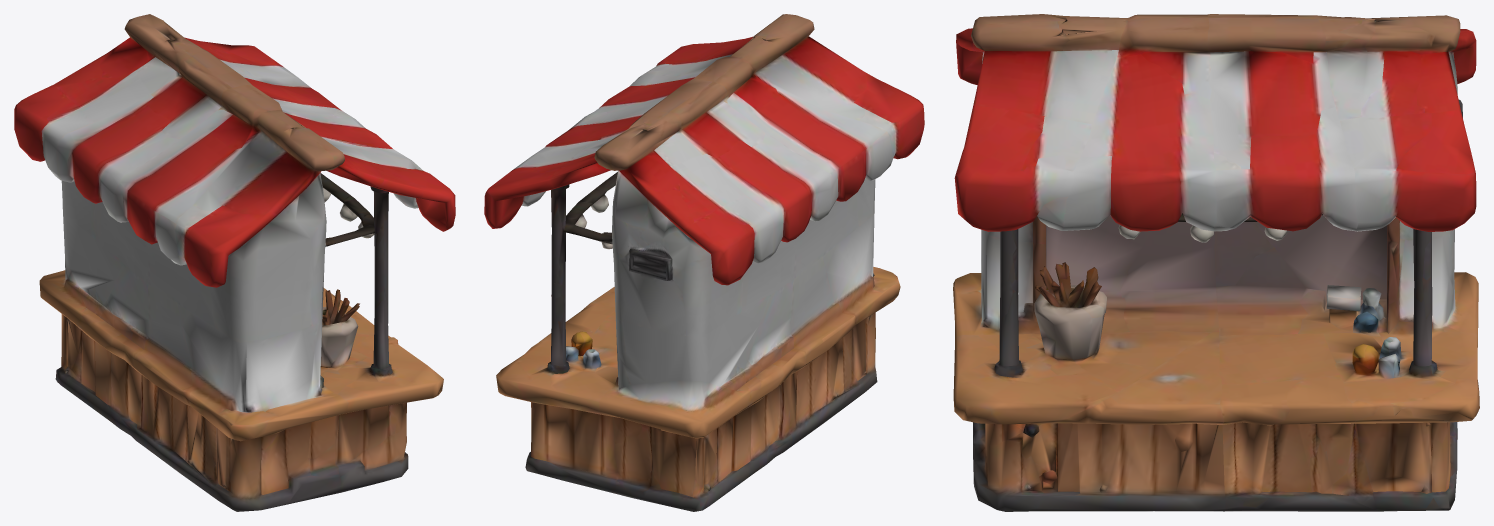
Rendered from kiosk.glb.
The picture shows the model from 3 angles, left to right: view 1: azimuth 30°, elevation 25°; view 2: azimuth 150°, elevation 25°; view 3: azimuth 270°, elevation 25°; orthographic projection. The views are drawn at different scales.
Visible parts, largest first — view 1: node_4a3d73a2-99ab-4b5e-a9f7-e62ff189085b; view 2: node_4a3d73a2-99ab-4b5e-a9f7-e62ff189085b; view 3: node_4a3d73a2-99ab-4b5e-a9f7-e62ff189085b.
Boxes of the visible parts, x1=… form: node_4a3d73a2-99ab-4b5e-a9f7-e62ff189085b: x1=14, y1=14, x2=455, y2=511; node_4a3d73a2-99ab-4b5e-a9f7-e62ff189085b: x1=484, y1=14, x2=924, y2=511; node_4a3d73a2-99ab-4b5e-a9f7-e62ff189085b: x1=953, y1=14, x2=1479, y2=511.
Bounding box in the file's own units: 0.6902 × 0.9182 × 0.9983.
1 material, 1 textured.
